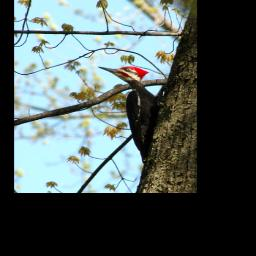Woodpecker: (94, 64, 166, 165)
